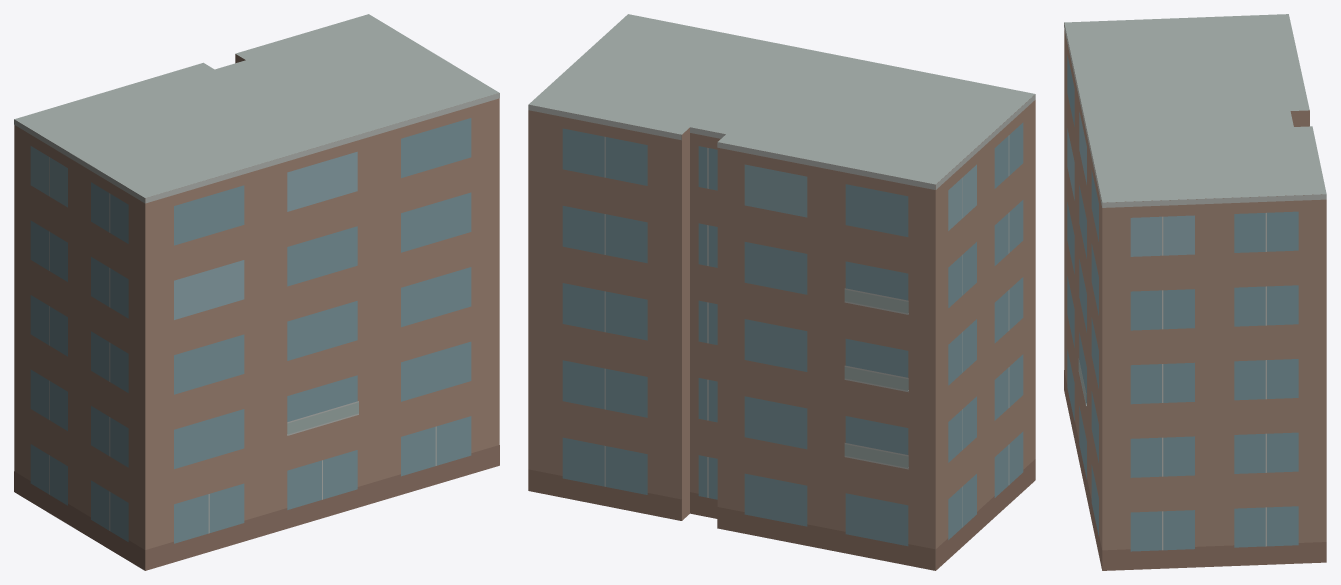
File: survey-upis-32758987.glb
3 renders of one model, left to right at view 1: azimuth 30°, elevation 25°; view 2: azimuth 150°, elevation 25°; view 3: azimuth 270°, elevation 25°, orthographic. The views are drawn at different scales.
Parts seen in each view (by area): view 1: survey-upis-32758987.tmp; view 2: survey-upis-32758987.tmp; view 3: survey-upis-32758987.tmp.
Boxes of the visible parts, <box> form: survey-upis-32758987.tmp: <box>14,14,499,570</box>; survey-upis-32758987.tmp: <box>528,14,1035,570</box>; survey-upis-32758987.tmp: <box>1064,14,1326,570</box>.
Bounding box in the file's own units: 18.46 × 16.8 × 10.86.
